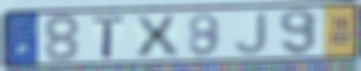8: (42, 12, 82, 64), (187, 12, 222, 58)
9: (278, 8, 321, 58)
J: (233, 11, 269, 56)
T: (91, 15, 128, 59)
X: (132, 13, 183, 59)
